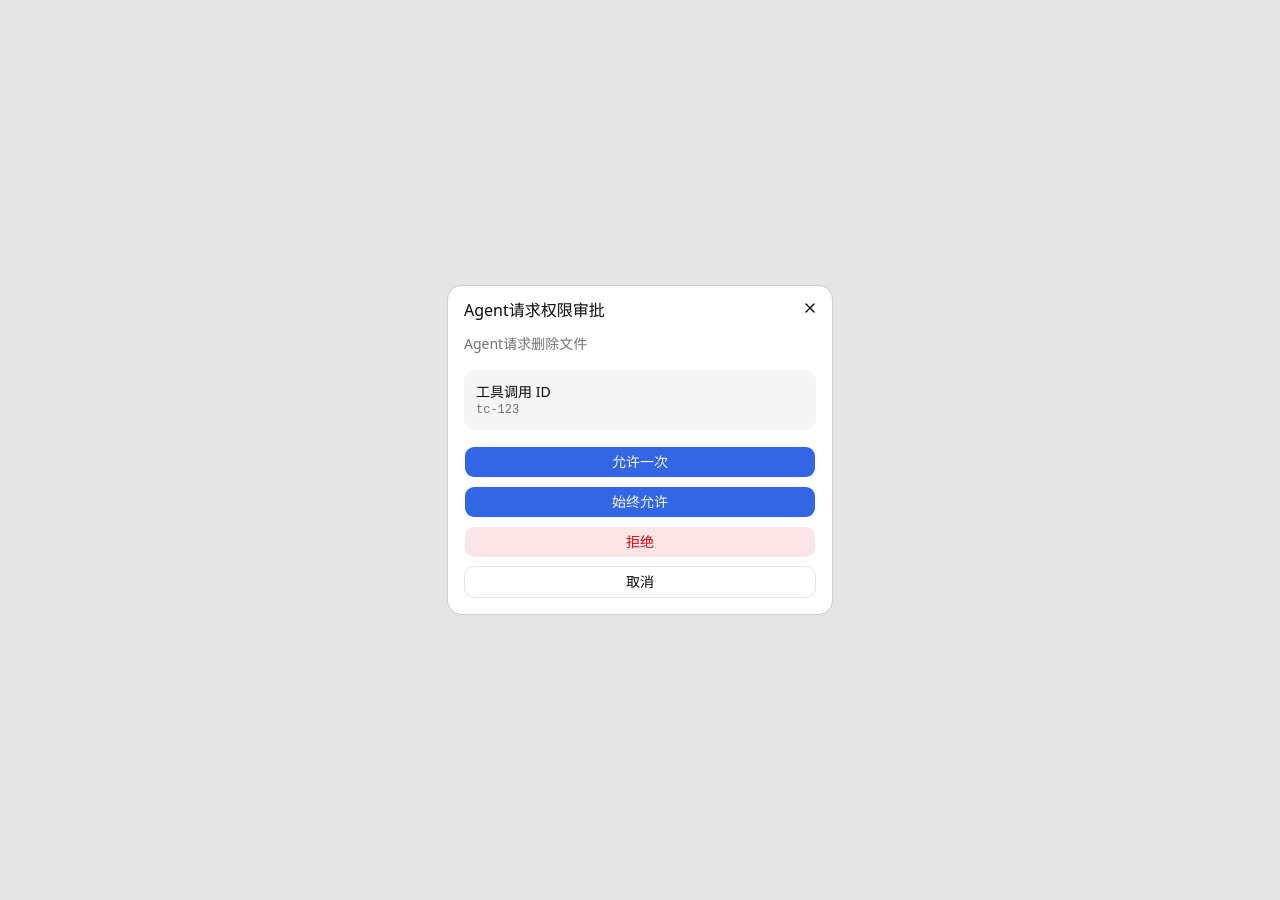
PermissionDialog › should disable buttons while responding
The image size is (1280, 900).
What coordinates should you click on to do the following:
click the button "允许一次"
I would click on:
 (640, 462)
Its box is x1=464 y1=446 x2=816 y2=478.
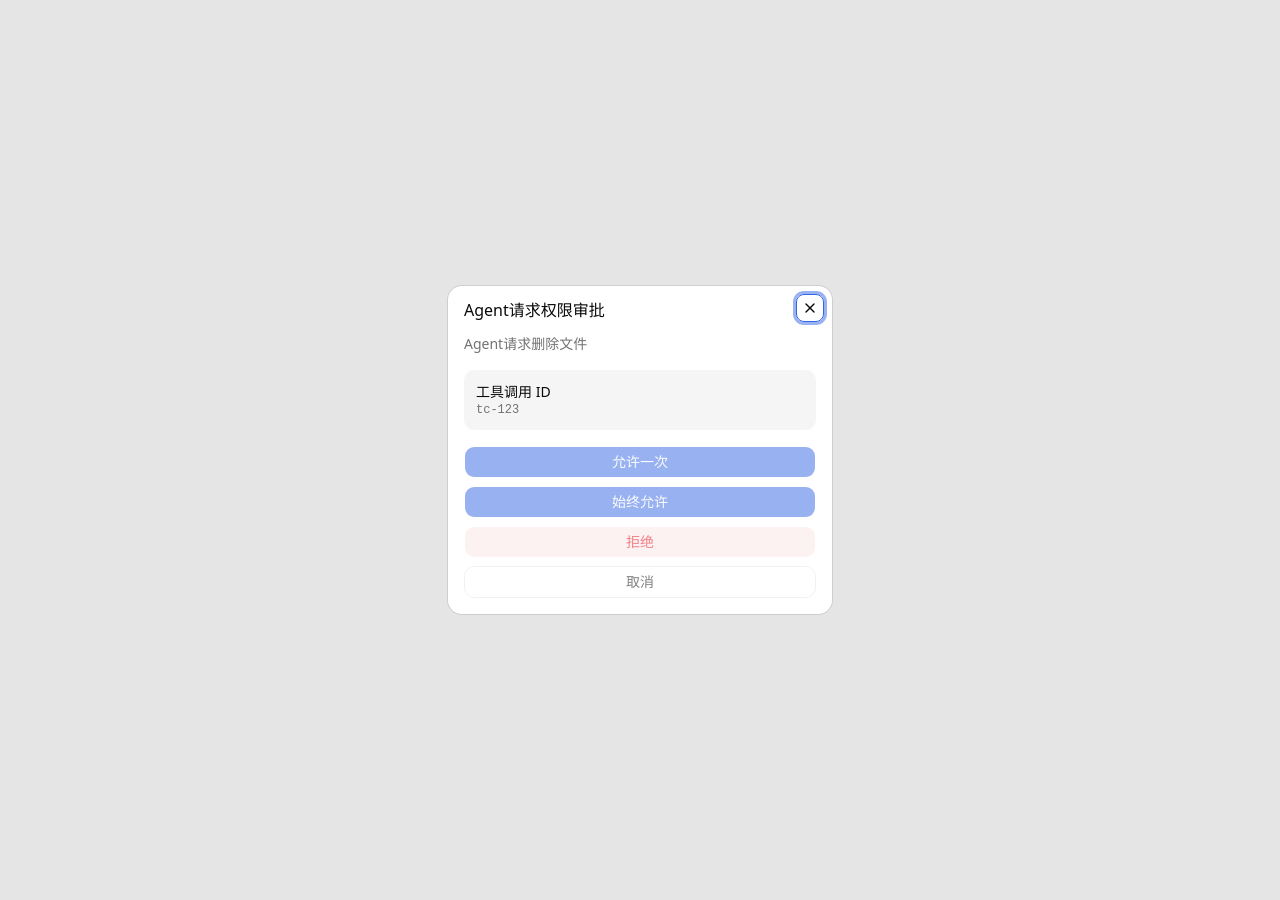
Expected: the button "允许一次" is disabled, x1=464 y1=446 x2=816 y2=478
Expected: the button "取消" is disabled, x1=464 y1=566 x2=816 y2=598
